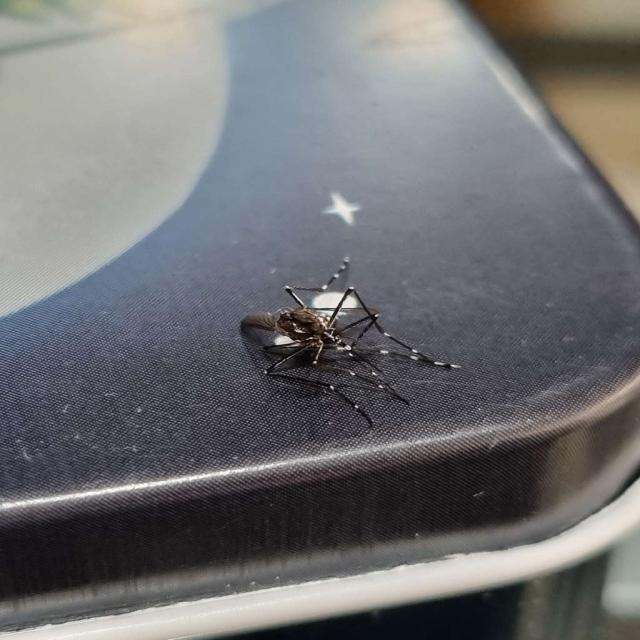aegypti: (240, 243, 466, 429)
